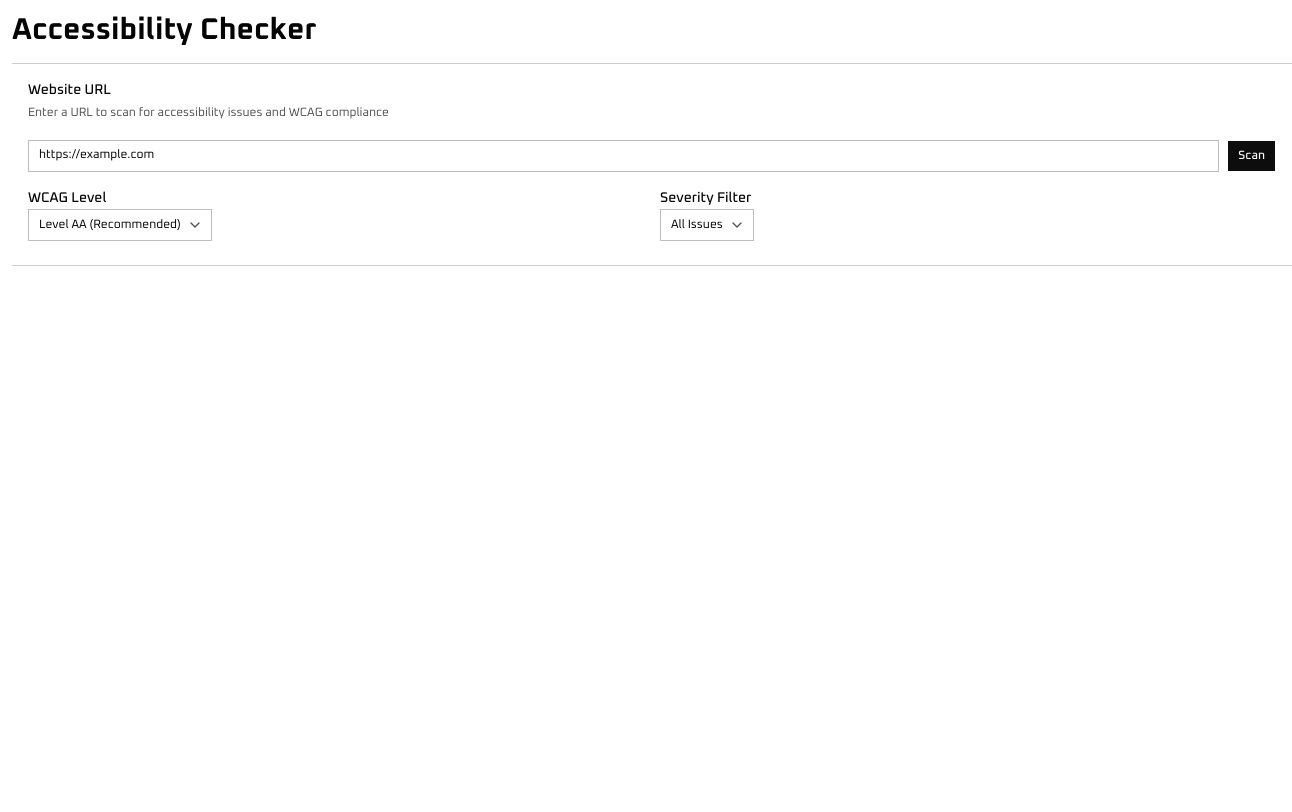
Scenario: Accessibility Checker › displays accessibility report after successful scan
Step 1. Click the button "Scan" → (1252,156), box left=1227, top=140, right=1276, bottom=172
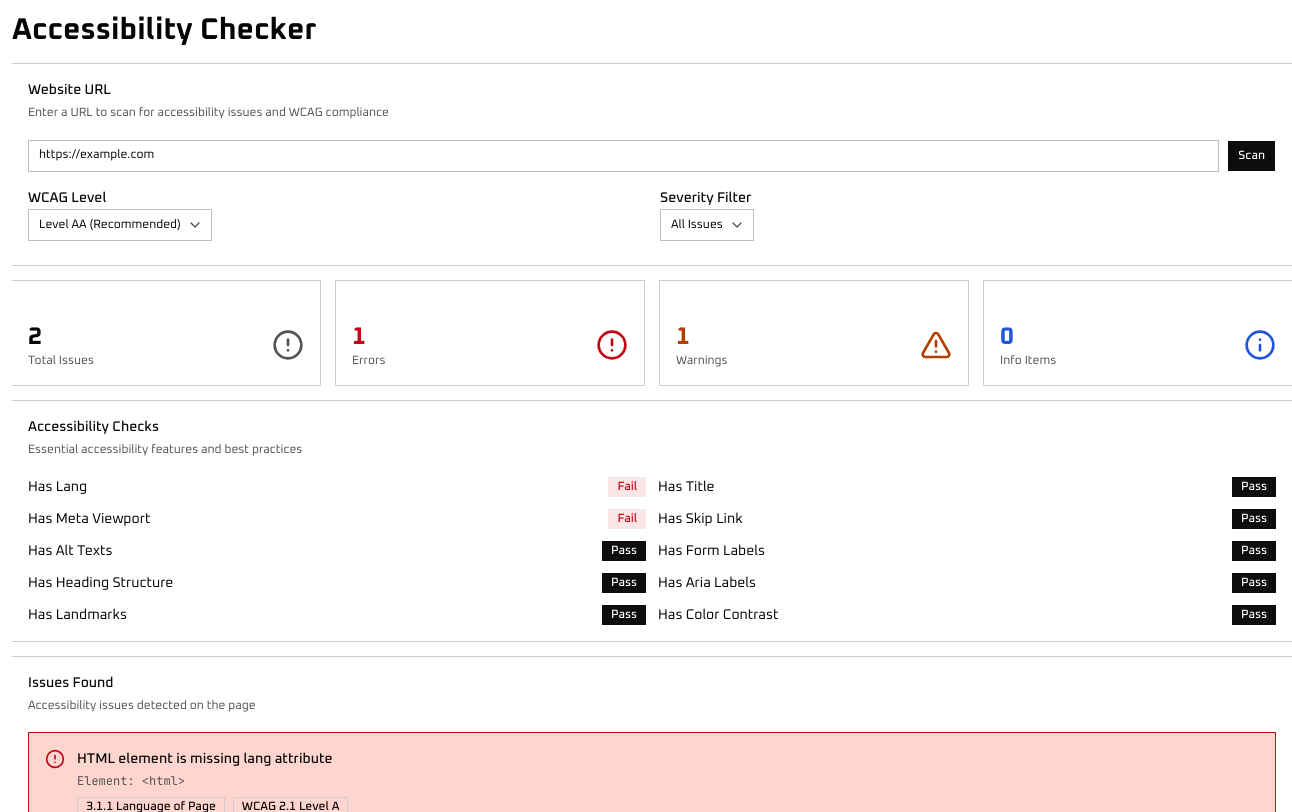
Now the text "Total Issues" is shown, box left=28, top=353, right=94, bottom=369
Now the text "Errors" is shown, box left=352, top=353, right=386, bottom=369
Now the text "Warnings" is shown, box left=676, top=353, right=728, bottom=369
